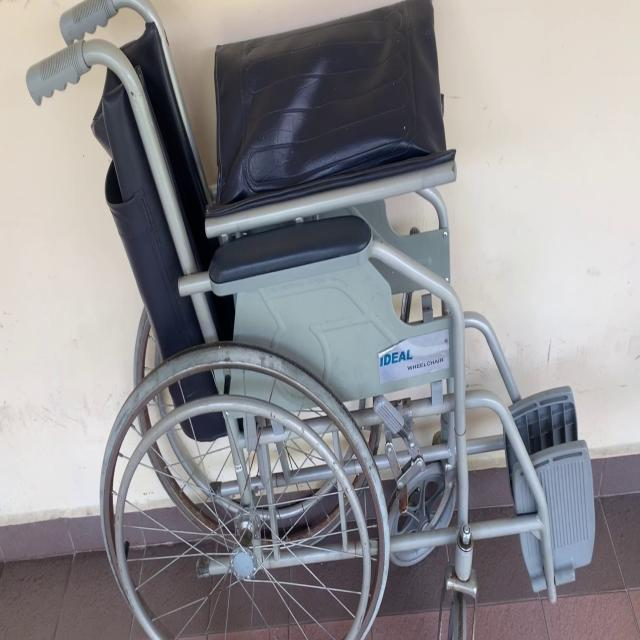wheelchair: (24, 7, 605, 640)
